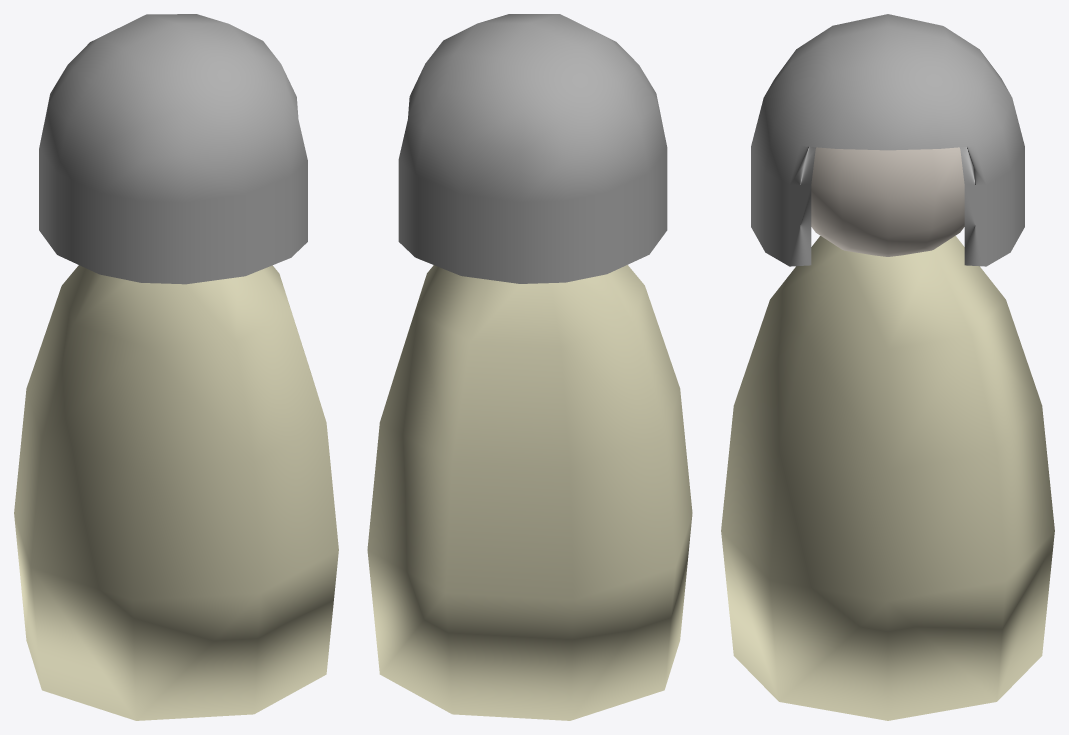
File: Woman_A.fbx
The picture shows the model from 3 angles, left to right: view 1: azimuth 30°, elevation 25°; view 2: azimuth 150°, elevation 25°; view 3: azimuth 270°, elevation 25°; orthographic projection.
Parts seen in each view (by area): view 1: polySurface4; view 2: polySurface4; view 3: polySurface4.
Boxes of the visible parts, x1,y1,x2,y2 form: polySurface4: [14, 14, 338, 720]; polySurface4: [367, 14, 692, 720]; polySurface4: [721, 14, 1054, 720].
Bounding box in the file's own units: 0.35 × 0.7277 × 0.35.
